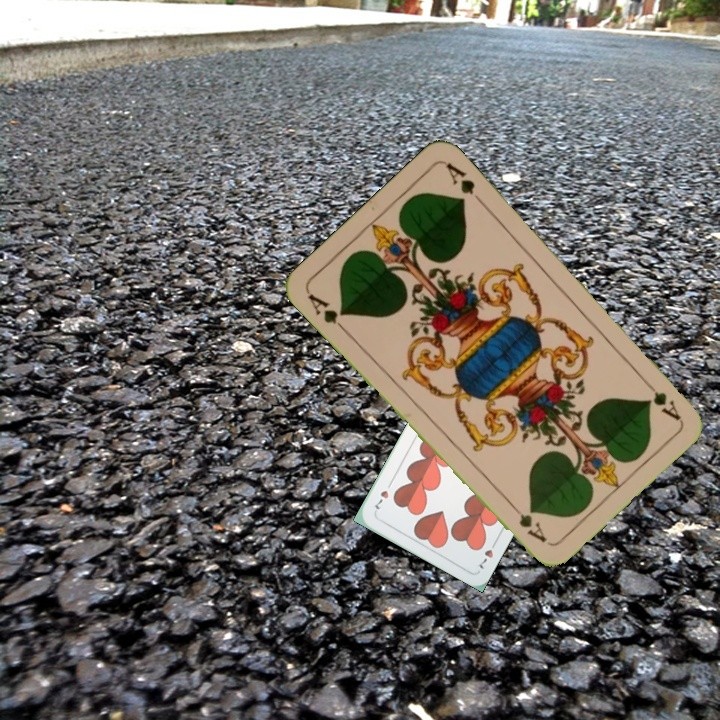GA: (638, 374, 683, 423), (304, 289, 350, 336)
H7: (475, 535, 500, 572)
